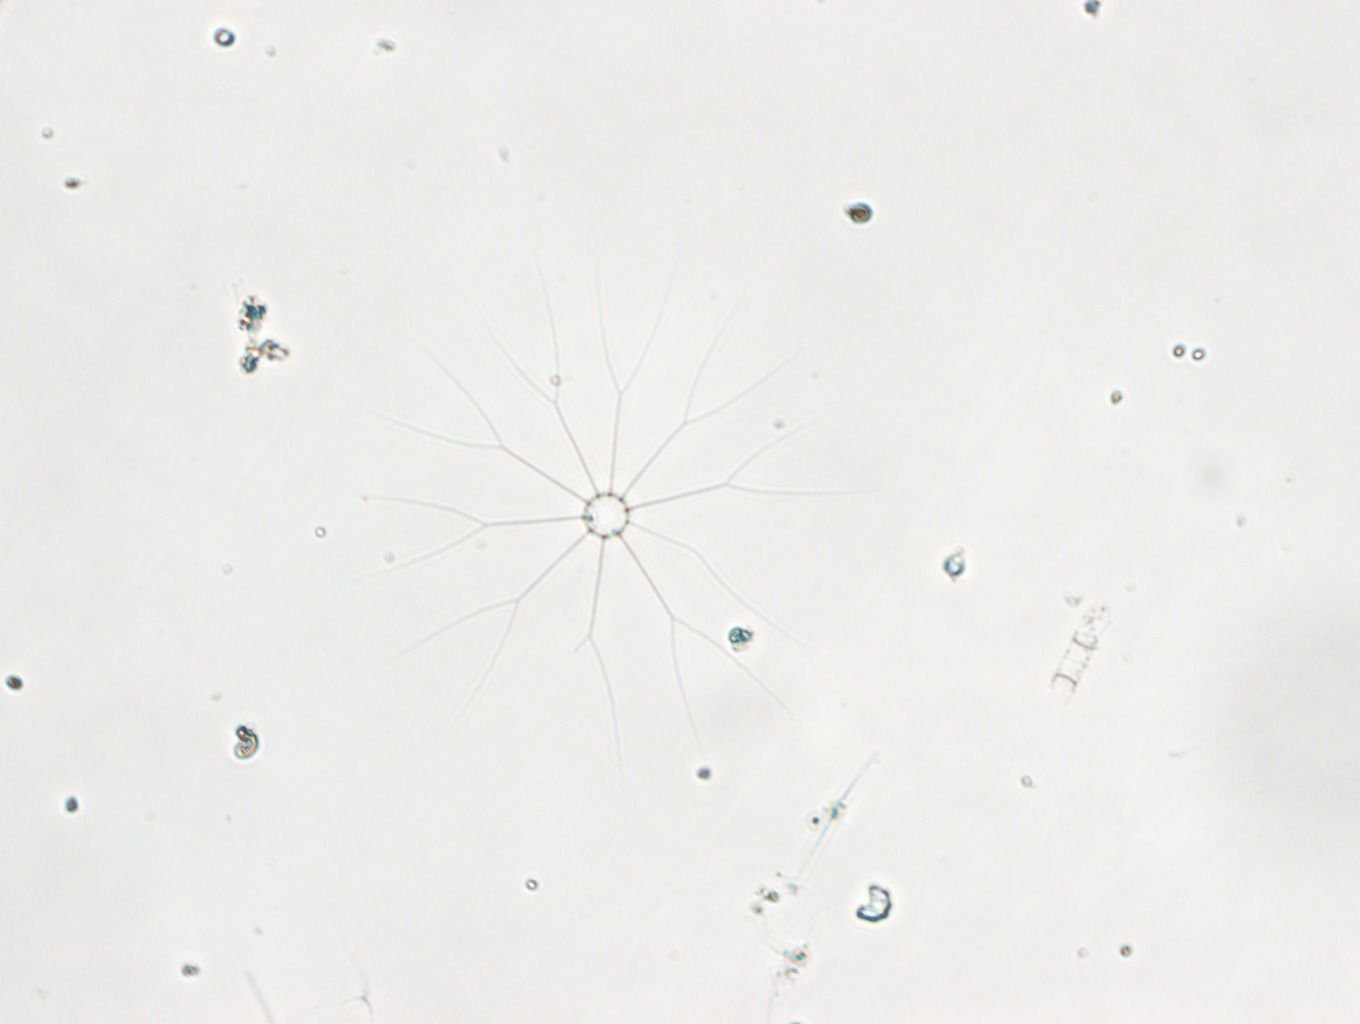bacteriastrum: (348, 250, 861, 753)
